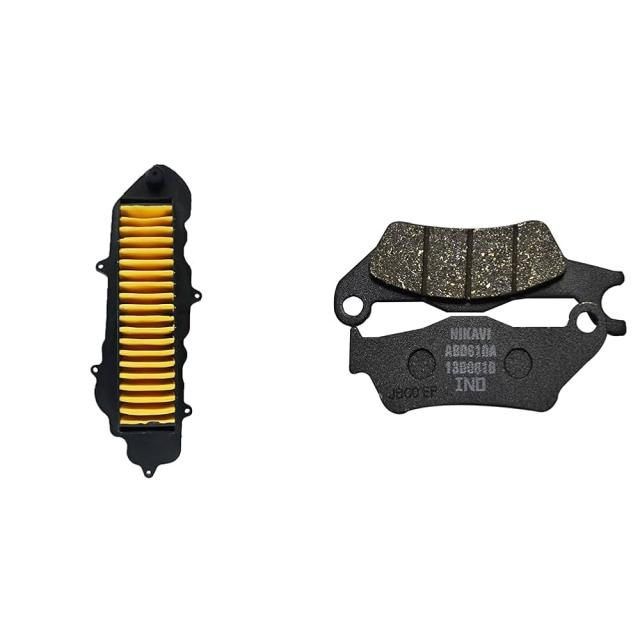air_filter: (79, 155, 205, 479)
brake_pad: (323, 315, 640, 417), (321, 215, 639, 314)
